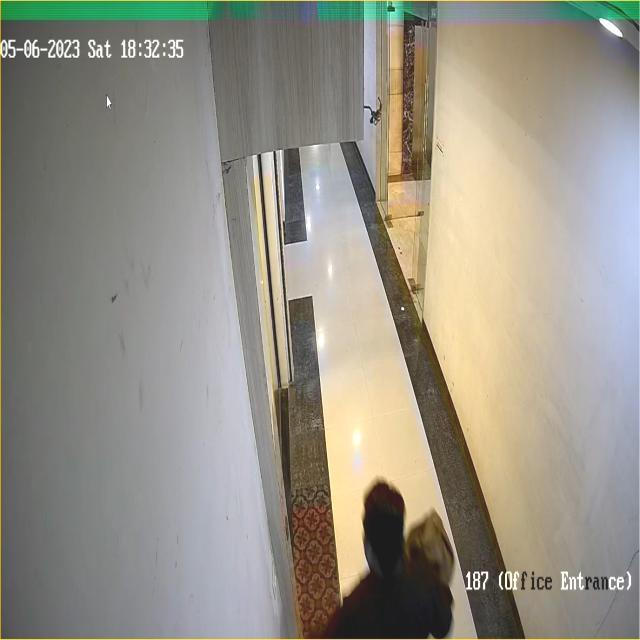gunny_bag: (408, 518, 460, 569)
